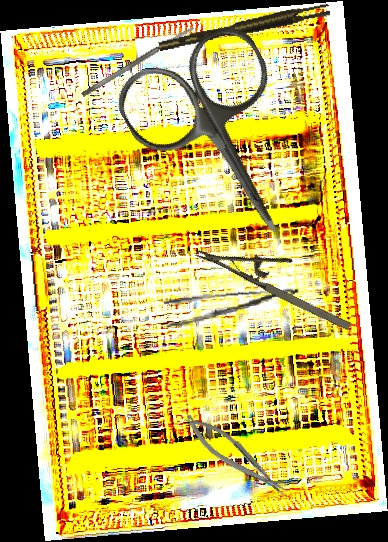Dressing Forceps: (163, 286, 302, 329)
Iris Scissors: (107, 16, 340, 270)
Needle Holder: (195, 218, 365, 336), (178, 405, 293, 508)
Spatula Surgical: (80, 25, 196, 98)
Tissue Forceps: (156, 3, 332, 51)
